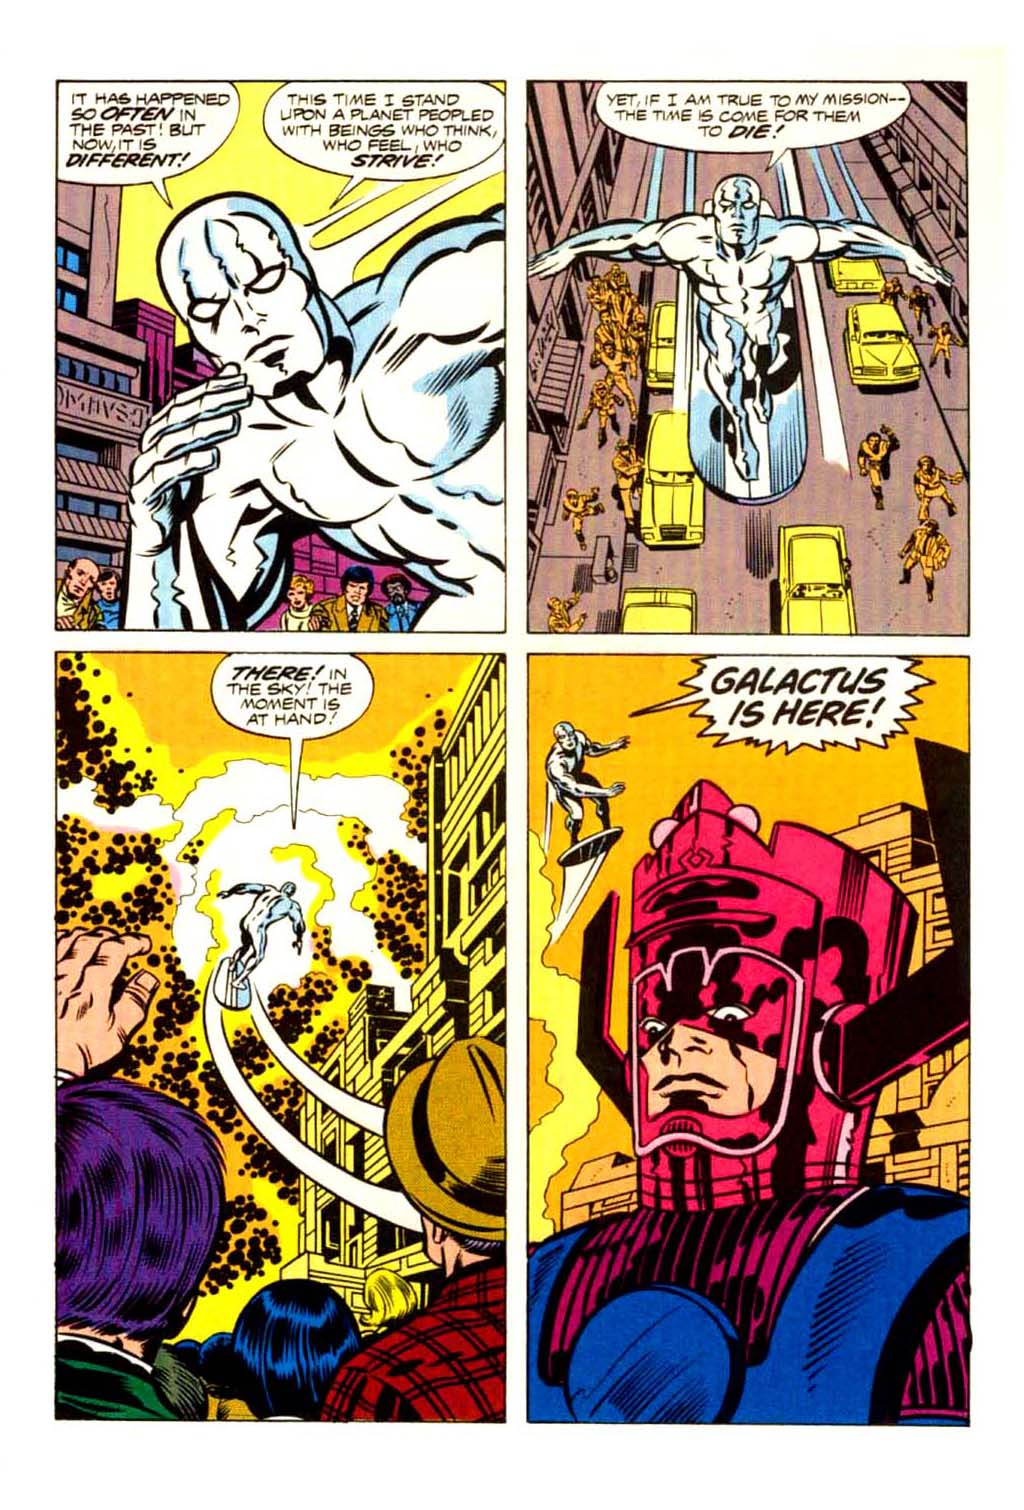Baloon: (662, 650, 934, 754), (599, 83, 913, 157), (267, 83, 506, 178), (50, 85, 241, 194), (218, 652, 374, 759)
Vignetta: (57, 652, 506, 1425), (525, 655, 969, 1427), (55, 80, 507, 628), (527, 83, 971, 632)
